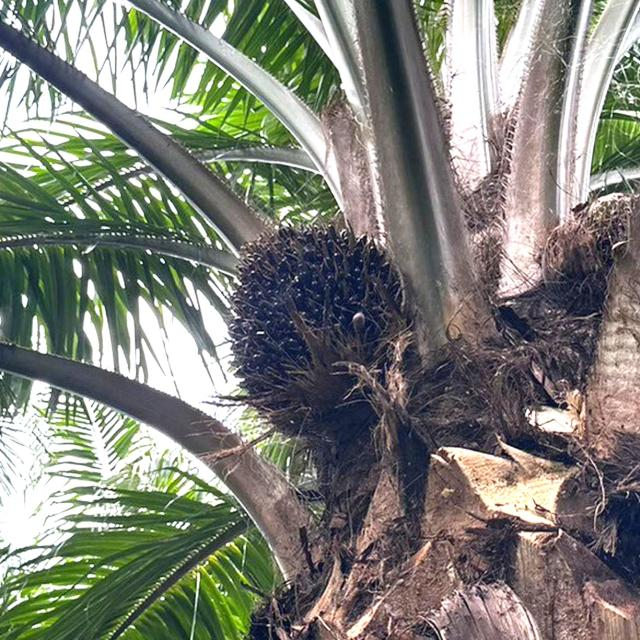unripe: (223, 218, 417, 441)
